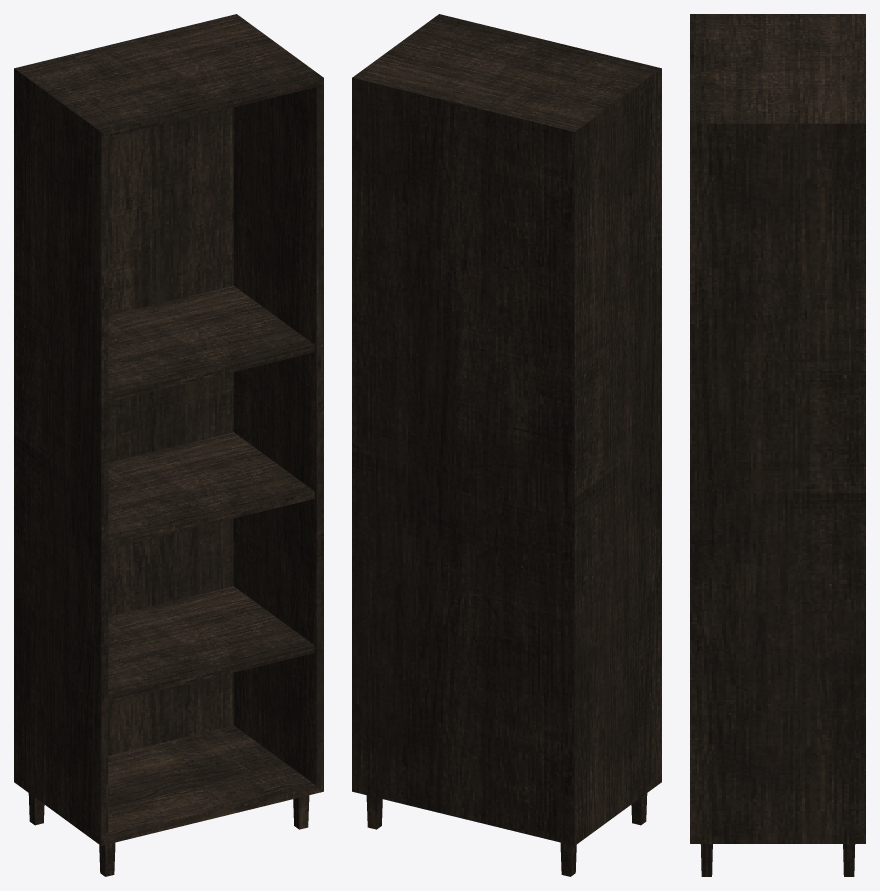
Rendered from shelf_mp_1_2.glb.
The picture shows the model from 3 angles, left to right: view 1: azimuth 30°, elevation 25°; view 2: azimuth 150°, elevation 25°; view 3: azimuth 270°, elevation 25°; orthographic projection.
Parts seen in each view (by area): view 1: shelf_mp_1_2; view 2: shelf_mp_1_2; view 3: shelf_mp_1_2.
Boxes of the visible parts, box(x1,y1,x2,y2) form: shelf_mp_1_2: box(14, 14, 323, 876); shelf_mp_1_2: box(352, 14, 661, 876); shelf_mp_1_2: box(690, 14, 865, 876).
Size of the model in its own units: 0.62 by 2 by 0.42.
Materials: 1 (1 with a texture image).
